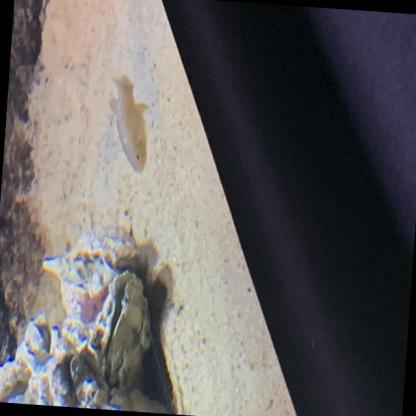fish: (100, 73, 156, 175)
